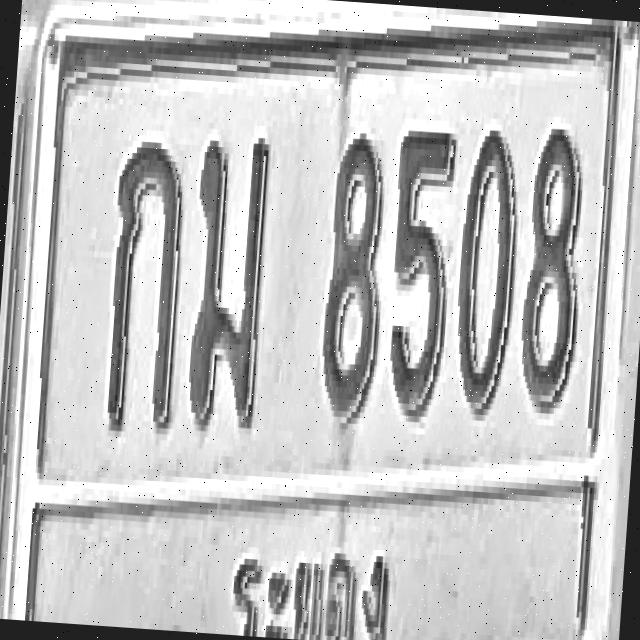0: (448, 120, 524, 413)
10GorGai: (101, 133, 190, 434)
42MorMa: (183, 125, 274, 431)
5: (381, 120, 459, 420)
8: (316, 124, 392, 424), (516, 115, 589, 408)
Rayong: (217, 522, 400, 640)
